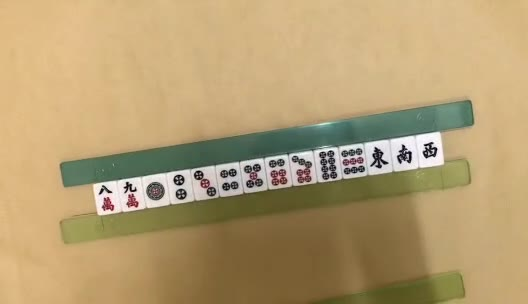1p: (147, 182, 164, 202)
1z: (370, 146, 388, 169)
2p: (173, 175, 187, 200)
2z: (397, 144, 413, 165)
3p: (194, 170, 216, 197)
3z: (422, 142, 438, 159)
4p: (219, 167, 239, 191)
5p: (244, 163, 264, 189)
6p: (269, 159, 287, 186)
7p: (293, 156, 311, 183)
8m: (98, 185, 115, 213)
8p: (319, 151, 338, 181)
9m: (122, 182, 138, 208)
9p: (341, 147, 364, 173)
